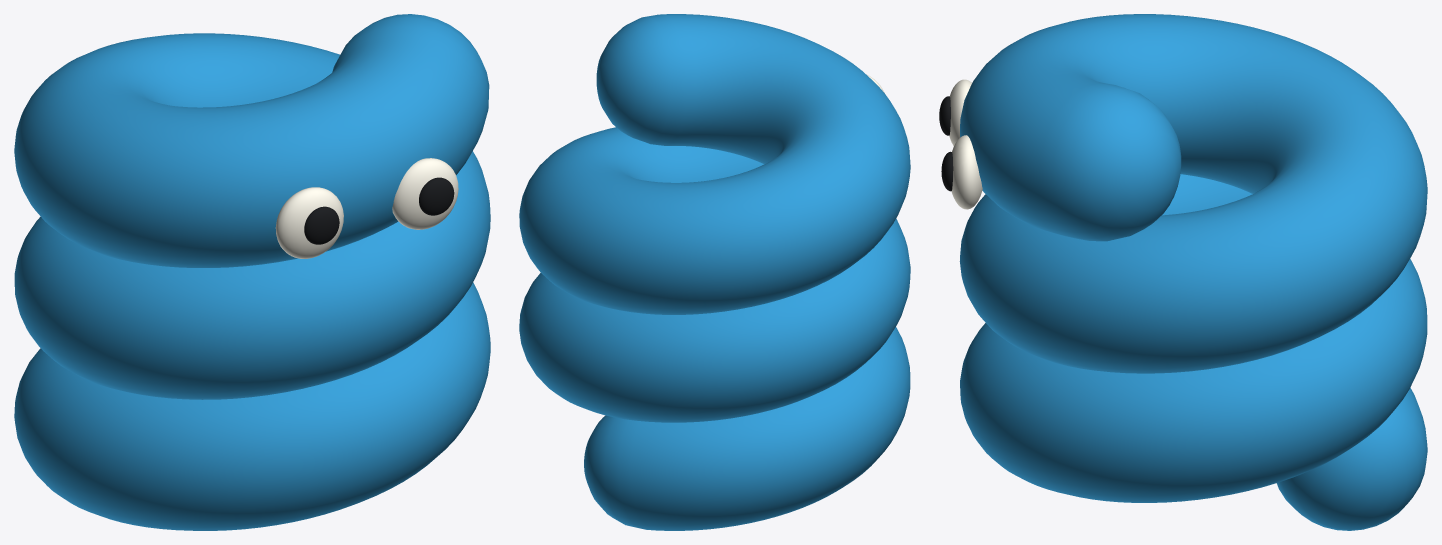
The model's file is img-9941.glb.
The picture shows the model from 3 angles, left to right: view 1: azimuth 30°, elevation 25°; view 2: azimuth 150°, elevation 25°; view 3: azimuth 270°, elevation 25°; orthographic projection. The views are drawn at different scales.
Parts seen in each view (by area): view 1: IMG_9941__Continuous three level blue coil.009, IMG_9941__EyeWhite_0.013, IMG_9941__EyeWhite_1.013, IMG_9941__Pupil_0.013, IMG_9941__Pupil_1.013; view 2: IMG_9941__Continuous three level blue coil.009; view 3: IMG_9941__Continuous three level blue coil.009, IMG_9941__EyeWhite_1.013, IMG_9941__EyeWhite_0.013.
Boxes of the visible parts, x1,y1,x2,y2 form: IMG_9941__Continuous three level blue coil.009: (14,14,490,530); IMG_9941__EyeWhite_0.013: (275,187,343,258); IMG_9941__EyeWhite_1.013: (392,158,458,229); IMG_9941__Pupil_0.013: (304,206,339,244); IMG_9941__Pupil_1.013: (419,177,454,215); IMG_9941__Continuous three level blue coil.009: (519,14,910,530); IMG_9941__Continuous three level blue coil.009: (959,14,1427,530); IMG_9941__EyeWhite_1.013: (951,135,982,209); IMG_9941__EyeWhite_0.013: (949,79,971,146).
Bounding box in the file's own units: 0.8759 × 1 × 0.9143.
